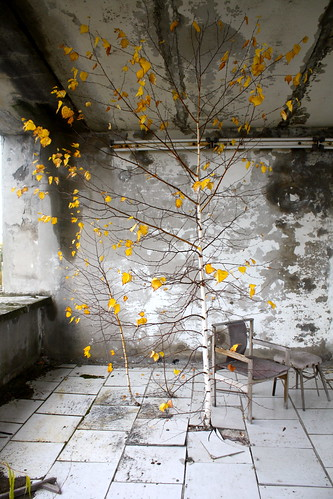chair: (209, 323, 283, 413)
tree: (60, 10, 293, 447)
